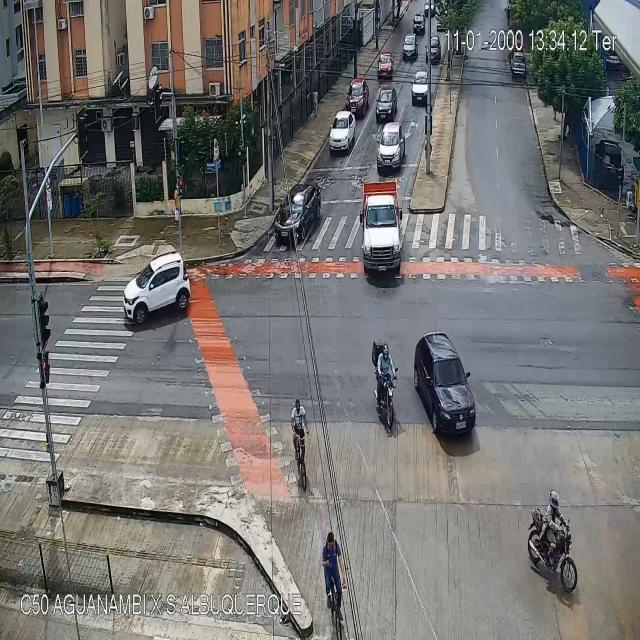Car: (414, 334, 476, 438), (122, 253, 190, 322), (275, 186, 319, 241), (375, 123, 405, 169), (329, 112, 355, 150), (346, 79, 368, 118), (377, 89, 398, 121), (412, 72, 428, 104), (377, 49, 394, 78), (403, 34, 417, 60), (426, 38, 439, 64), (513, 53, 525, 79), (414, 14, 425, 36), (425, 1, 435, 14)
Motorcycle: (527, 491, 578, 595), (372, 338, 398, 431)
Truck: (359, 182, 401, 274)
